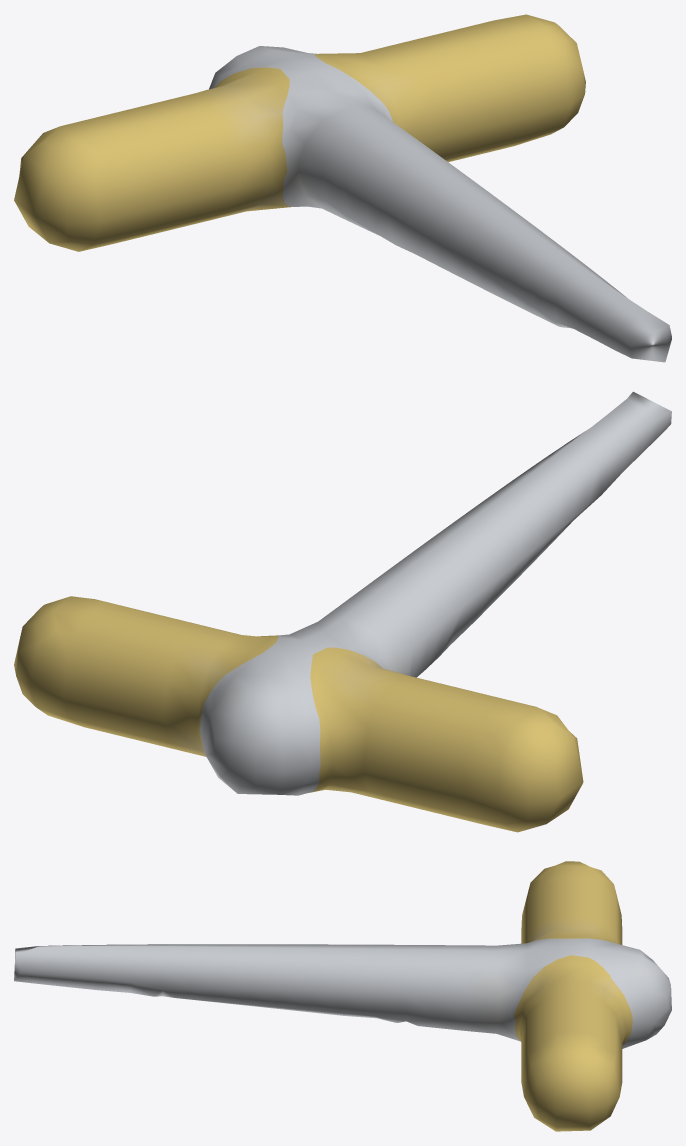
Rendered from orn_c05.glb.
The picture shows the model from 3 angles, top to bottom: view 1: azimuth 30°, elevation 25°; view 2: azimuth 150°, elevation 25°; view 3: azimuth 270°, elevation 25°; orthographic projection. The views are drawn at different scales.
Visible parts, largest first — view 1: orn_c05; view 2: orn_c05; view 3: orn_c05.
Part boxes in pixels (x1,y1,x2,y2): orn_c05: (14, 14, 671, 362); orn_c05: (14, 391, 671, 832); orn_c05: (14, 861, 671, 1131).
Bounding box in the file's own units: 4.94 × 1.13 × 6.47.
